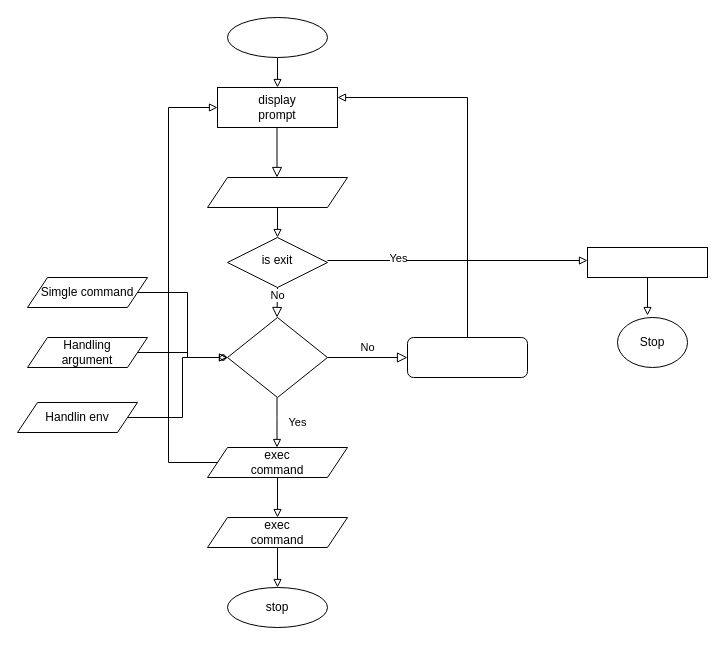
This 725x645 diagram has some shape labels left out. Each missing label, with the centre of its shape:
"command exist" goes at [277,357].
"command not found" goes at [467,357].
"input commmand" goes at [277,192].
"start" goes at [277,37].
"Terminate" goes at [647,262].
